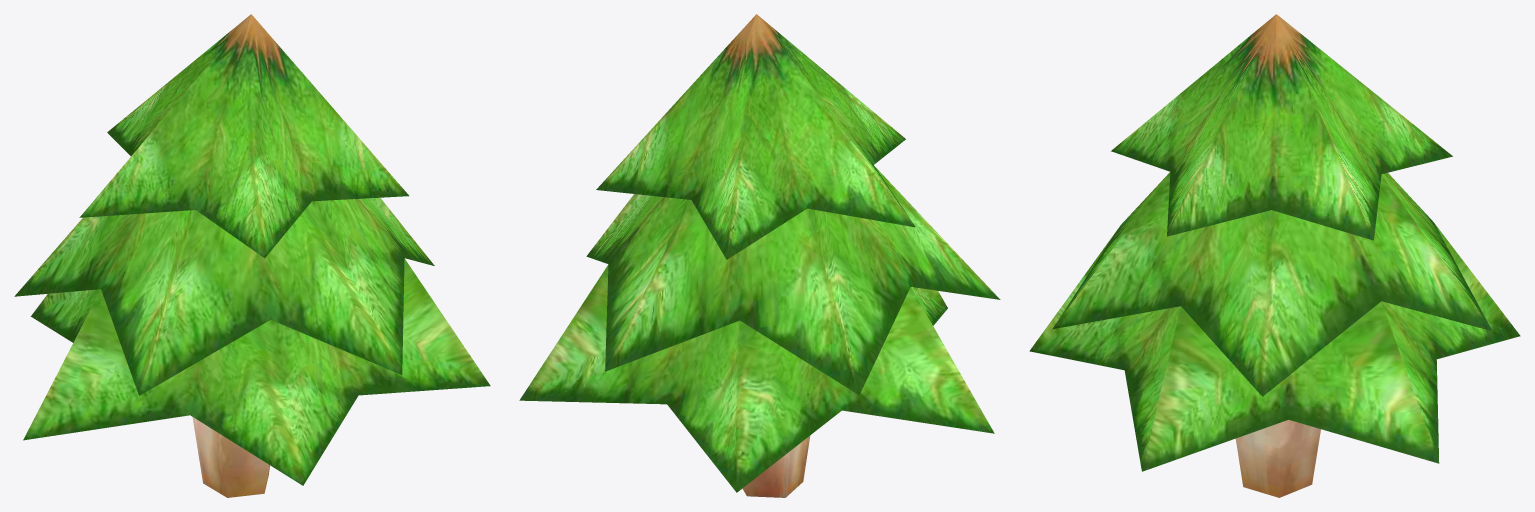
The model's file is Tree3.gltf.
3 views of the same model, side by side, from view 1: azimuth 30°, elevation 25°; view 2: azimuth 150°, elevation 25°; view 3: azimuth 270°, elevation 25° (orthographic).
Parts seen in each view (by area): view 1: conifer 2; view 2: conifer 2; view 3: conifer 2.
Part boxes in pixels (box(x1,y1,x2,y2)): conifer 2: box(14, 14, 490, 497); conifer 2: box(519, 14, 1000, 497); conifer 2: box(1029, 14, 1520, 497).
Size of the model in its own units: 6.22 by 6.77 by 6.35.
Materials: 1 (1 with a texture image).
